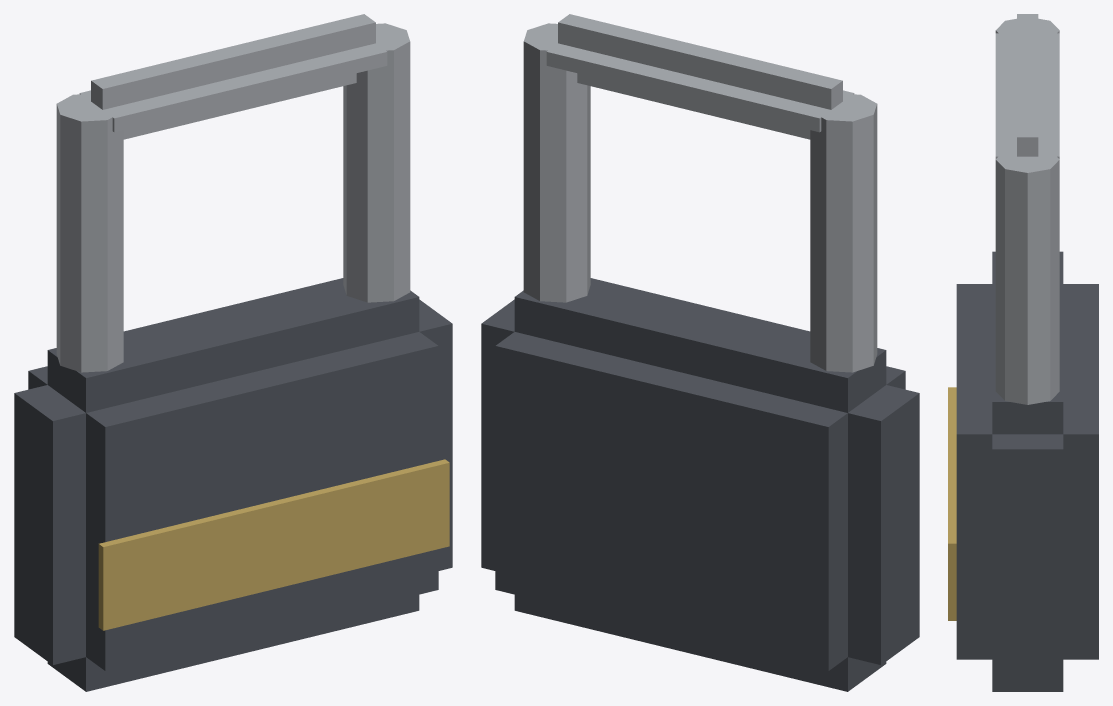
Rendered from item_padlock_closed_hand.glb.
The picture shows the model from 3 angles, left to right: view 1: azimuth 30°, elevation 25°; view 2: azimuth 150°, elevation 25°; view 3: azimuth 270°, elevation 25°; orthographic projection. The views are drawn at different scales.
Visible parts, largest first — view 1: padlock_mesh; view 2: padlock_mesh; view 3: padlock_mesh.
Boxes of the visible parts, x1,y1,x2,y2 form: padlock_mesh: (14,14,452,691); padlock_mesh: (481,14,919,691); padlock_mesh: (948,14,1098,691).
Size of the model in its own units: 0.06 by 0.084 by 0.0212.
